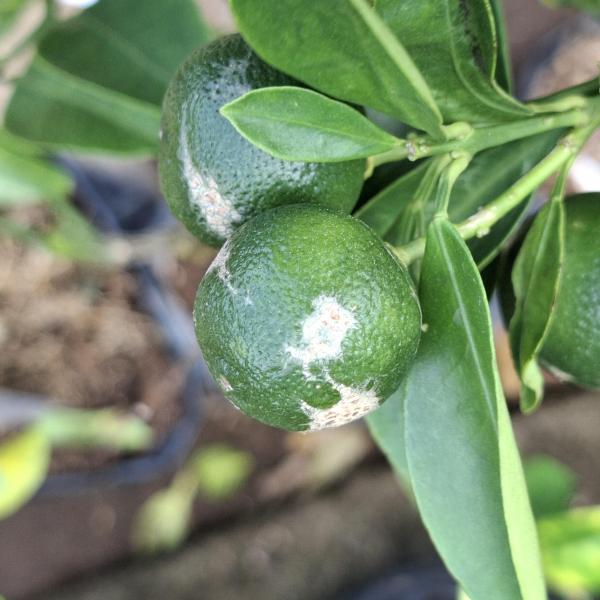Scab: (172, 201, 435, 445), (141, 26, 381, 246)
